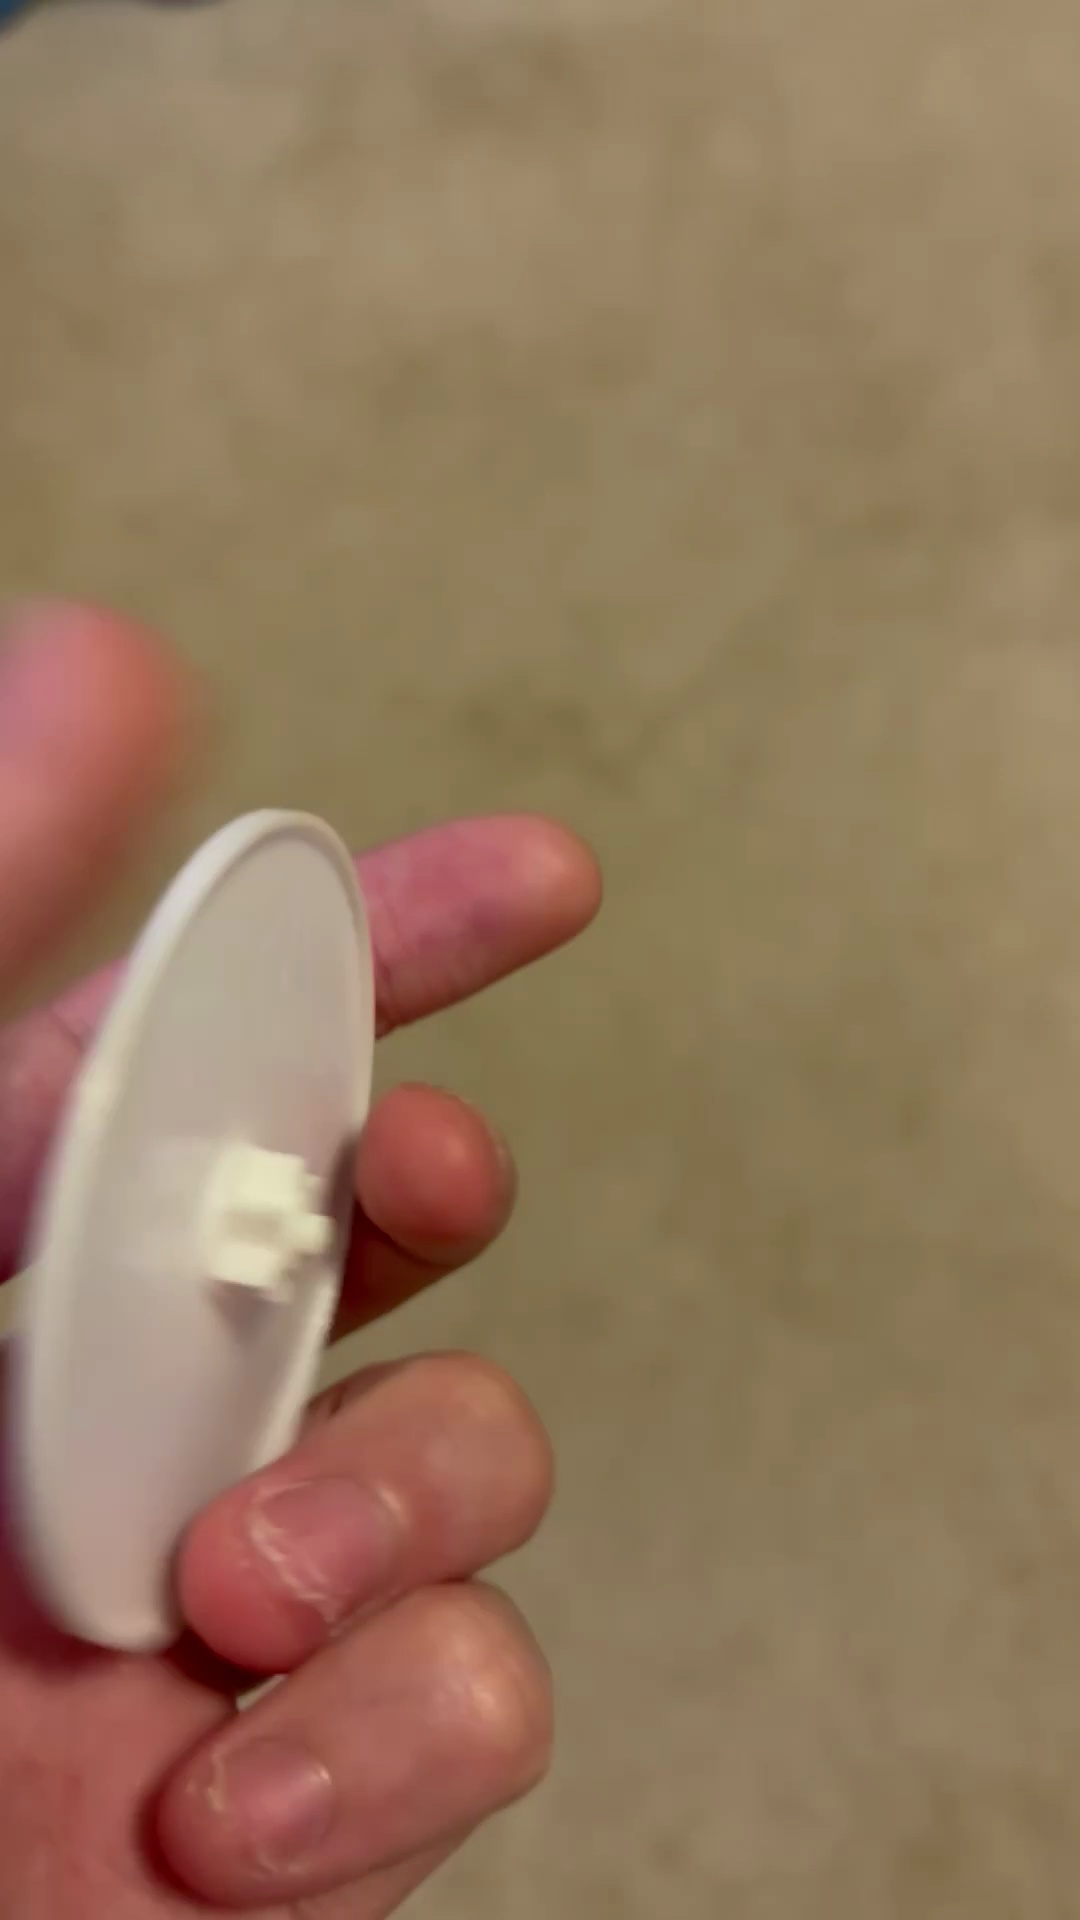Part1: (0, 810, 373, 1651)
